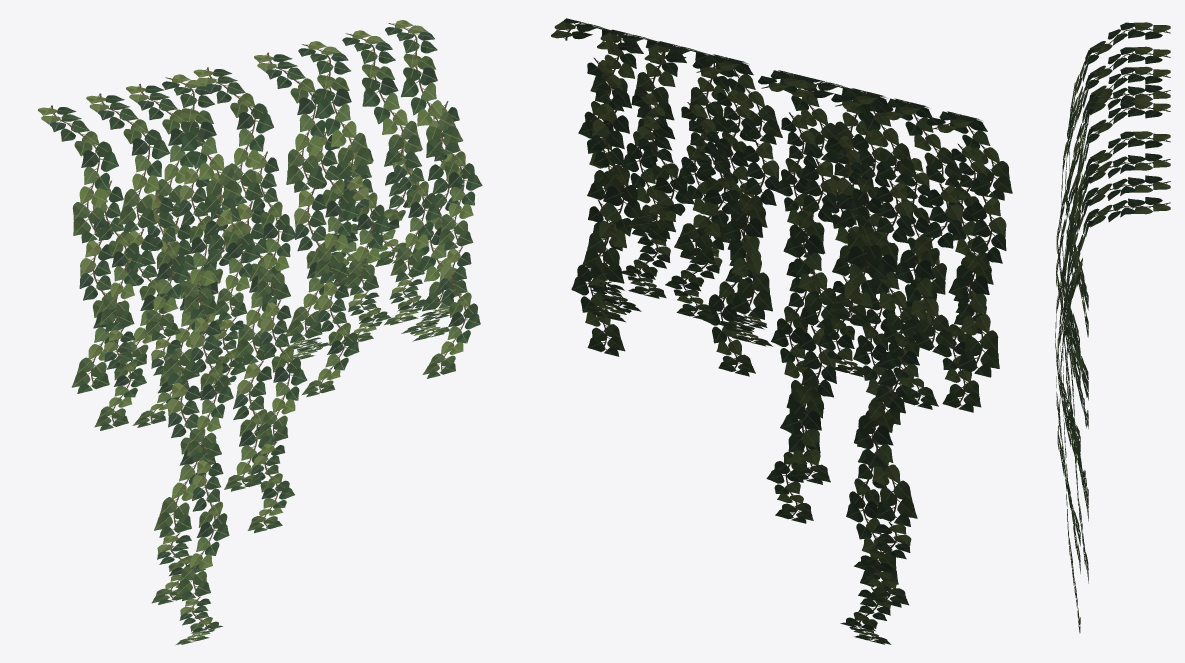
Rendered from SM_Vine_Hanging.fbx.
The picture shows the model from 3 angles, left to right: view 1: azimuth 30°, elevation 25°; view 2: azimuth 150°, elevation 25°; view 3: azimuth 270°, elevation 25°; orthographic projection. The views are drawn at different scales.
Parts seen in each view (by area): view 1: SM_Vine_Hanging; view 2: SM_Vine_Hanging; view 3: SM_Vine_Hanging.
Boxes of the visible parts, x1,y1,x2,y2 form: SM_Vine_Hanging: (38,20,482,645); SM_Vine_Hanging: (551,18,1012,644); SM_Vine_Hanging: (1055,22,1170,633).
Size of the model in its own units: 2.29 by 2.65 by 0.5067.
1 material, 1 textured.
